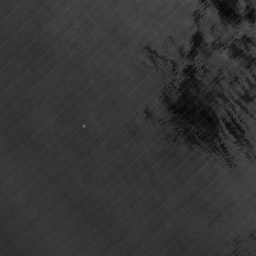Target: (81, 122, 87, 129)
